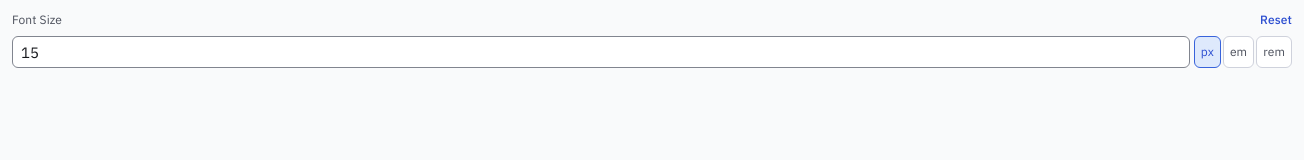
Scenario: an arrow steps by one and previews rather than committing
Step 1. Click the field labelled "Font Size" → point(601, 52), box [12,36,1190,68]
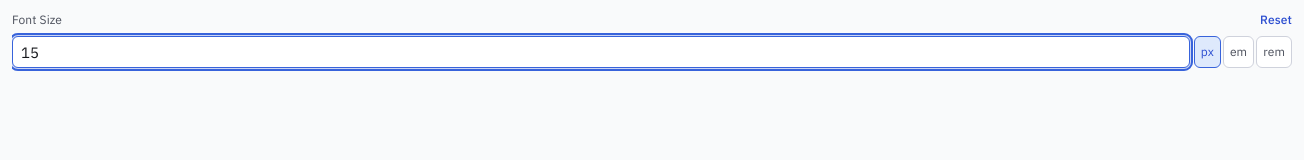
Step 2. Press Arrowup
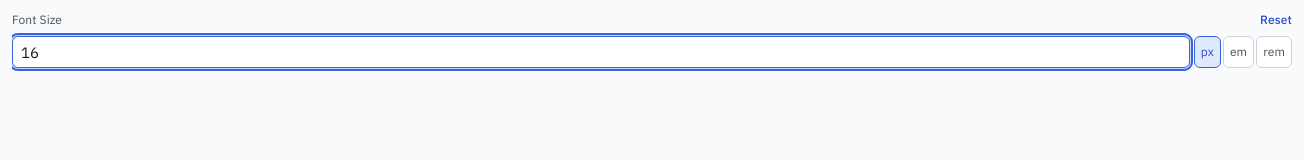
Expected: the field labelled "Font Size" holds "16", [12,36,1190,68]
Step 3. Press Arrowdown Arrowdown
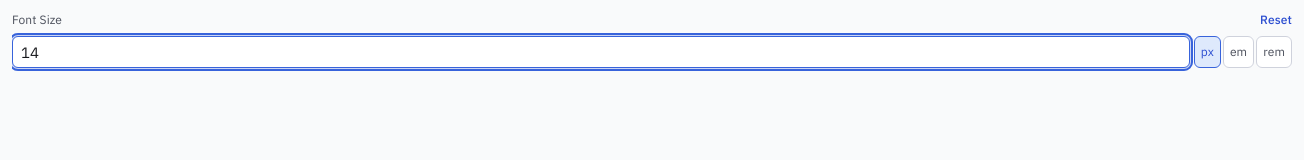
Now the field labelled "Font Size" holds "14", box [12,36,1190,68]
